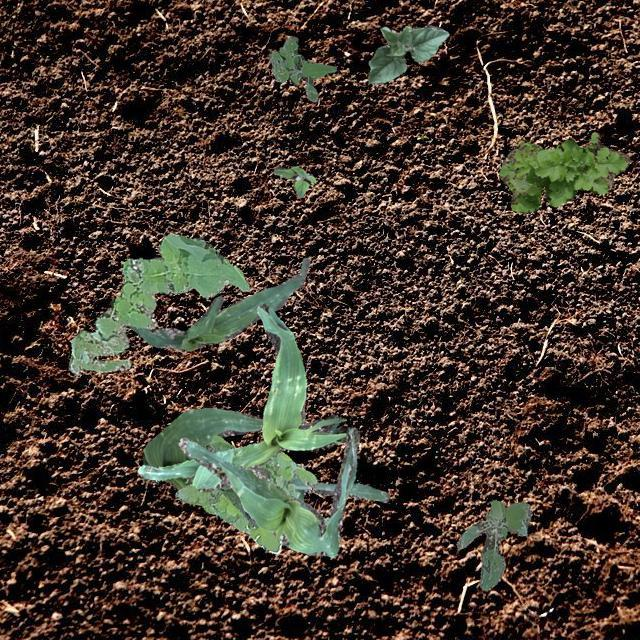crop: (136, 302, 350, 490), (142, 406, 388, 502), (178, 426, 358, 556), (110, 256, 308, 350), (367, 23, 448, 84)
weed: (68, 234, 248, 374), (174, 434, 328, 552), (498, 130, 628, 212), (454, 498, 532, 590), (268, 34, 336, 100), (218, 466, 270, 526), (272, 166, 314, 197)
